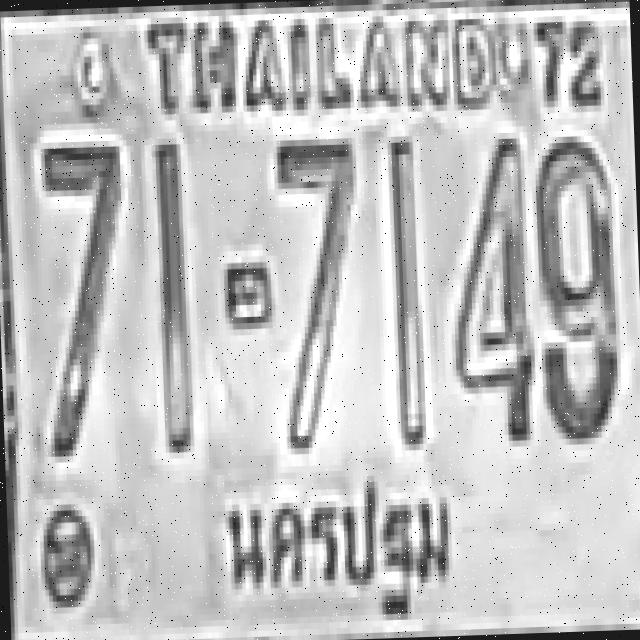1: (149, 138, 192, 452), (384, 138, 426, 448), (383, 132, 422, 448)
4: (444, 128, 534, 440)
7: (272, 132, 362, 448), (39, 137, 128, 454), (272, 132, 360, 382)
9: (530, 128, 619, 440)
NakhonPathom: (212, 462, 467, 638)
